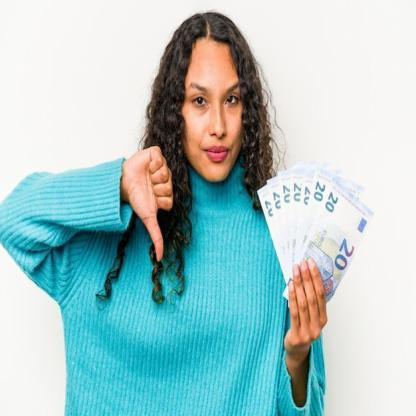thumb_down: (117, 140, 175, 264)
